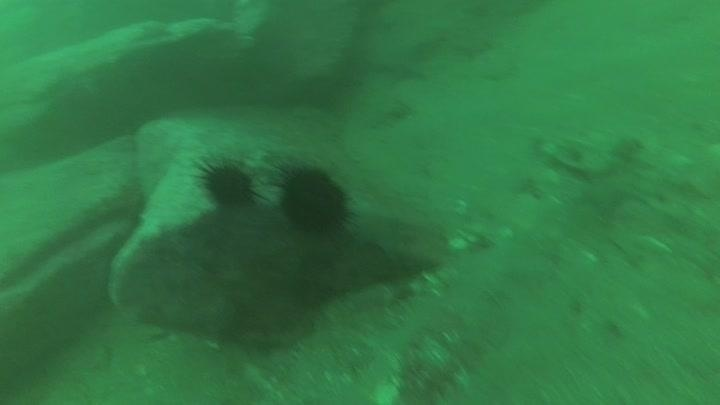echinus: (272, 159, 355, 238), (195, 156, 259, 210)
starfish: (343, 204, 417, 266)
